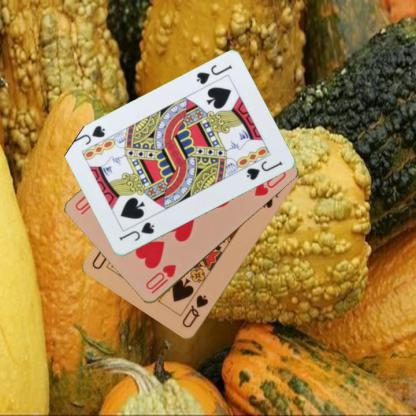10h: (143, 261, 177, 295)
Js: (194, 62, 234, 86), (116, 220, 156, 242)
Qs: (179, 292, 210, 330)
